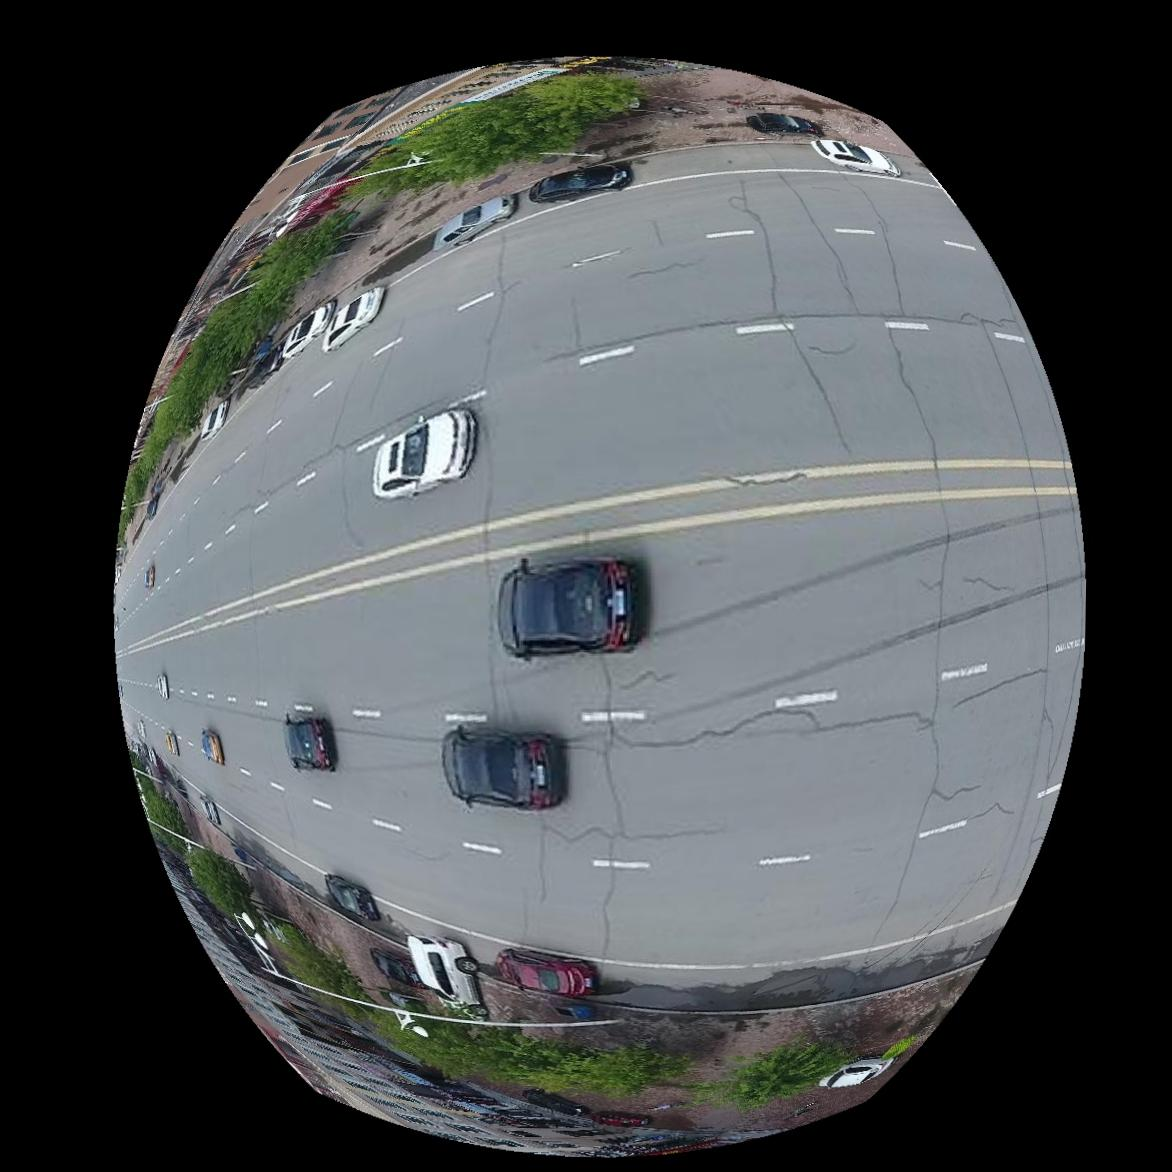cars: (497, 555, 640, 660), (442, 726, 562, 814), (373, 407, 475, 498), (408, 936, 487, 1020), (497, 949, 598, 999), (434, 192, 516, 248), (528, 161, 632, 202), (322, 285, 384, 351), (812, 136, 902, 175), (282, 299, 334, 356), (283, 716, 334, 773), (325, 875, 379, 921), (747, 109, 820, 133)
trees: (695, 970, 975, 1113), (367, 72, 642, 189), (133, 290, 282, 477), (429, 1025, 690, 1099), (205, 210, 356, 333)
